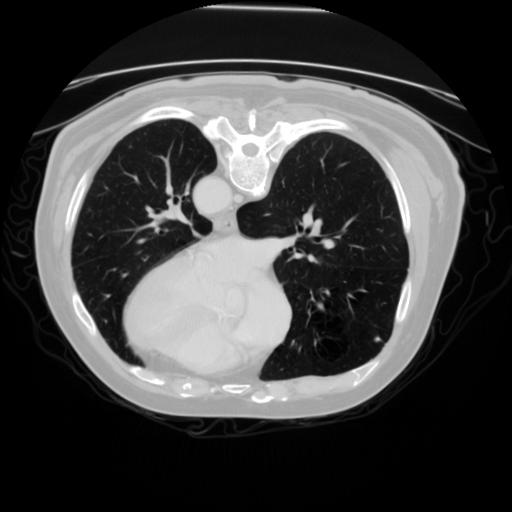nodule: (373, 335, 384, 346)
